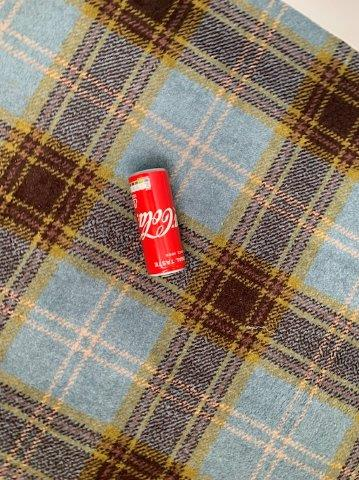kaleng: (129, 168, 186, 276)
